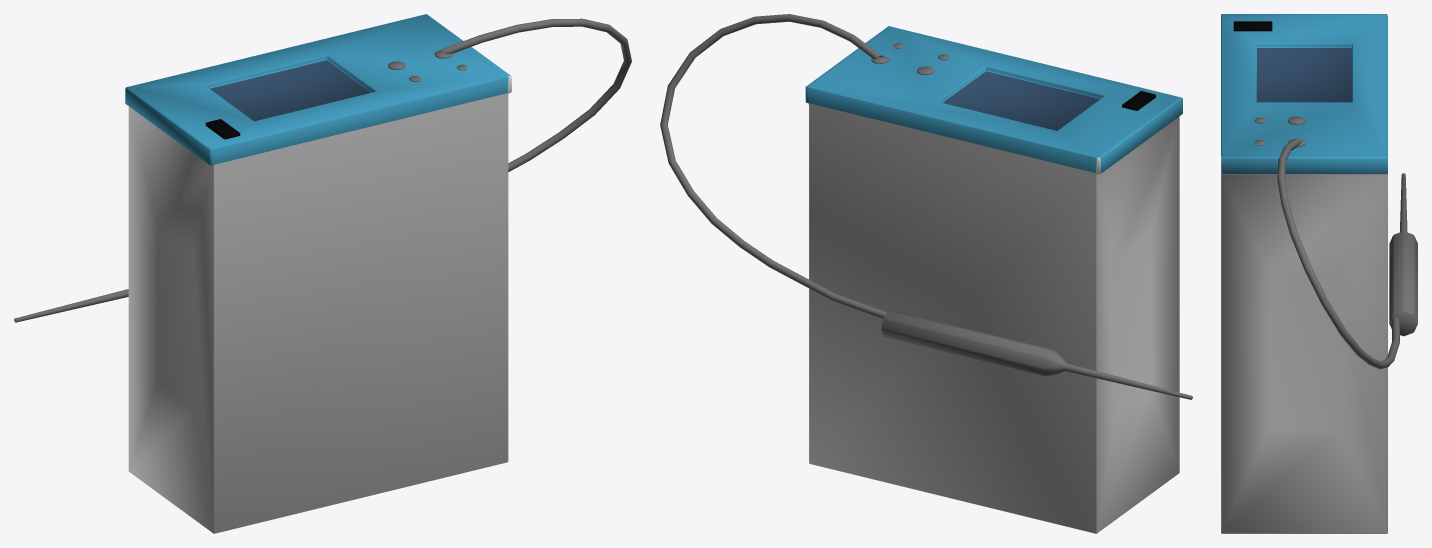
3 views of the same model, side by side, from view 1: azimuth 30°, elevation 25°; view 2: azimuth 150°, elevation 25°; view 3: azimuth 270°, elevation 25° (orthographic). The views are drawn at different scales.
Visible parts, largest first — view 1: Cube; view 2: Cube; view 3: Cube.
Part boxes in pixels (x1,y1,x2,y2): Cube: (14,14,631,533); Cube: (660,14,1192,533); Cube: (1221,14,1417,533).
Size of the model in its own units: 78.16 by 52.44 by 23.59.
